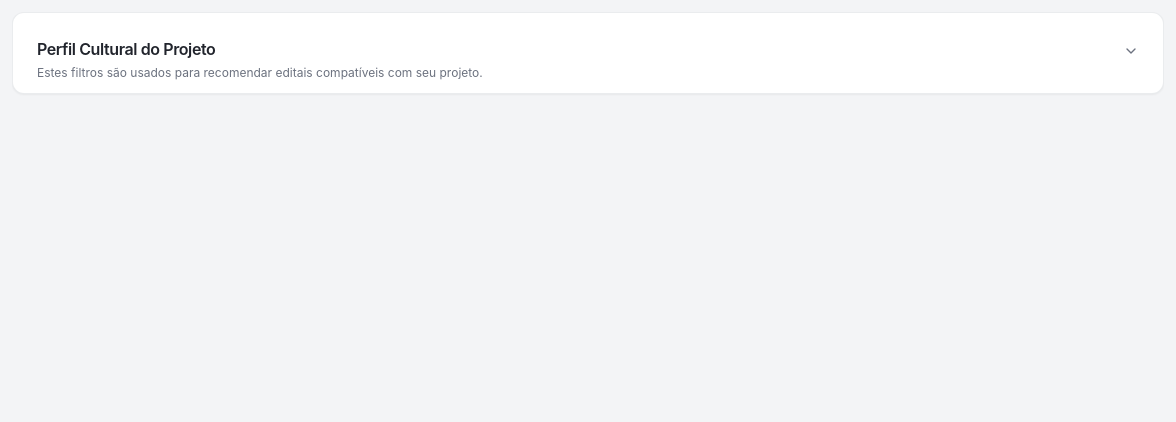
Test case: ProjectCulturalProfile — aria-label das palavras-chave › aria-label da palavra-chave adicionada reflete o texto digitado
The image size is (1176, 422).
Click the button "Perfil Cultural do Projeto" at (126, 49), box [13, 13, 1163, 93]
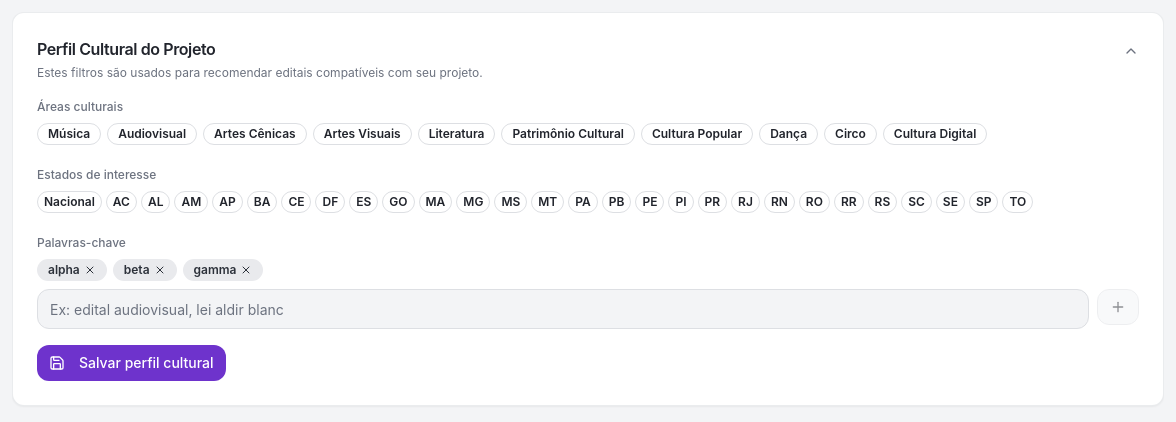
Type "delta" into the field named "Nova palavra-chave" at (563, 309), box [37, 289, 1089, 329]
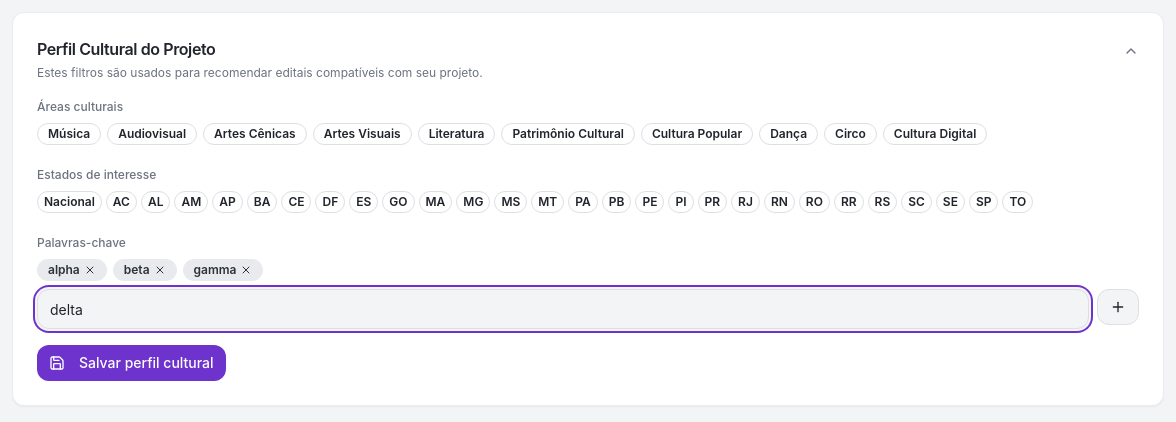
Click the button named "Adicionar palavra-chave" at (1118, 307), box [1097, 289, 1139, 325]
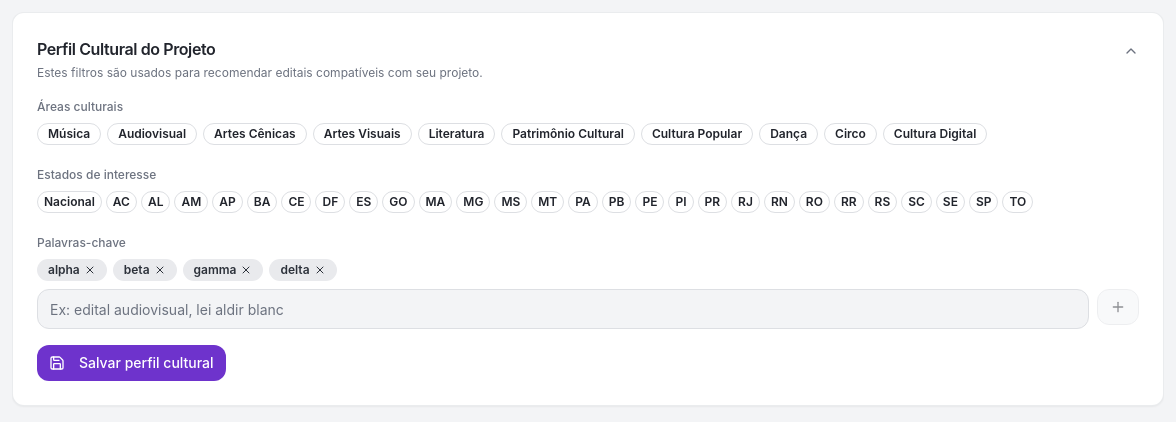
Expected: the button named "Remover palavra-chave delta" is shown, [314, 264, 326, 276]
